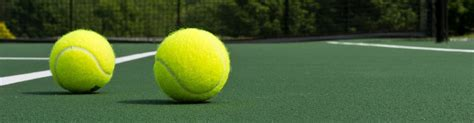tennis_ball: (152, 27, 231, 103), (48, 29, 115, 93)
